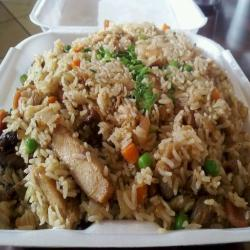rice: (35, 32, 216, 131)
